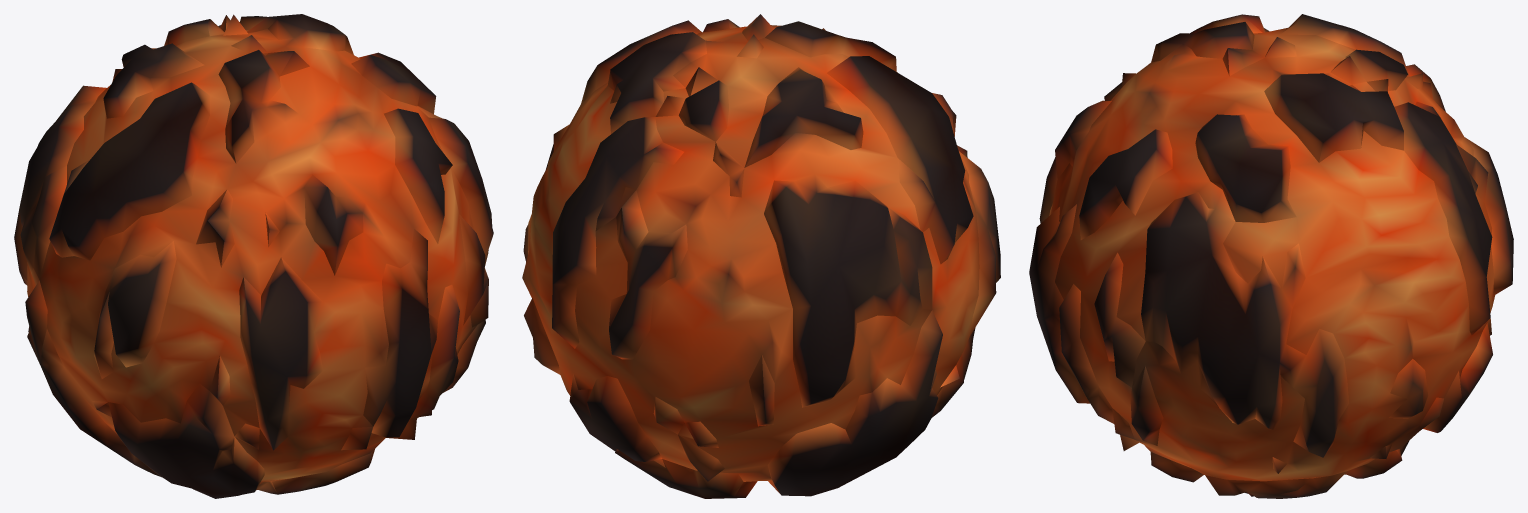
File: Planet3.fbx
3 views of the same model, side by side, from view 1: azimuth 30°, elevation 25°; view 2: azimuth 150°, elevation 25°; view 3: azimuth 270°, elevation 25° (orthographic).
Visible parts, largest first — view 1: Planet3; view 2: Planet3; view 3: Planet3.
Part boxes in pixels (x1,y1,x2,y2): Planet3: [14, 14, 493, 498]; Planet3: [522, 14, 1000, 498]; Planet3: [1029, 14, 1513, 498].
Size of the model in its own units: 1.22 by 1.22 by 1.23.
